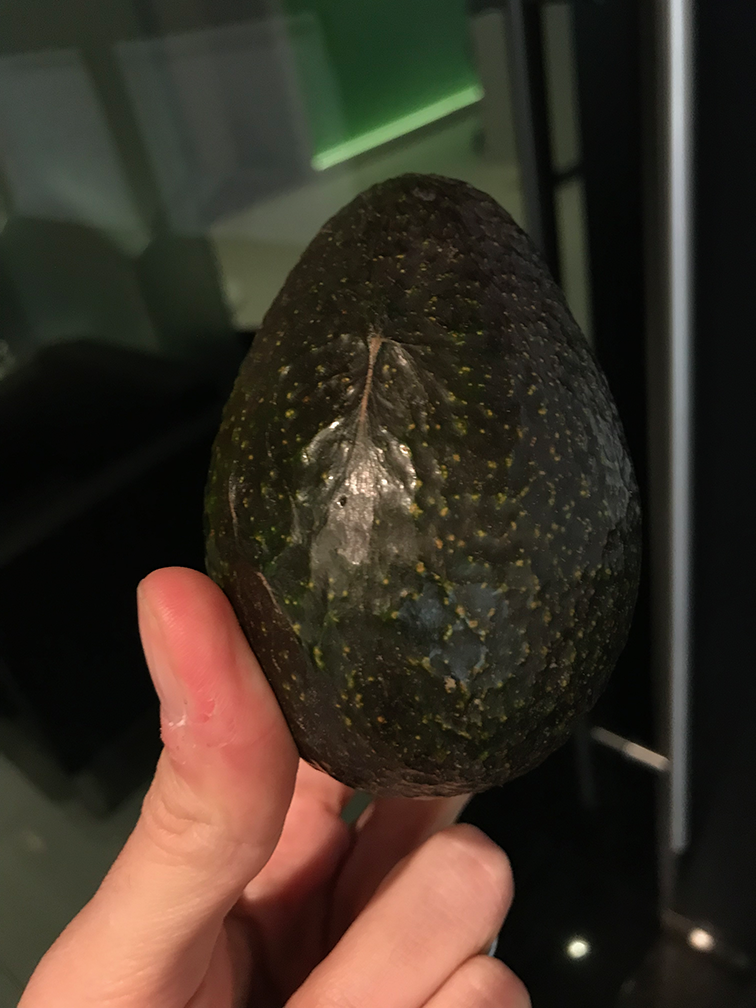avocado: (200, 168, 627, 800)
